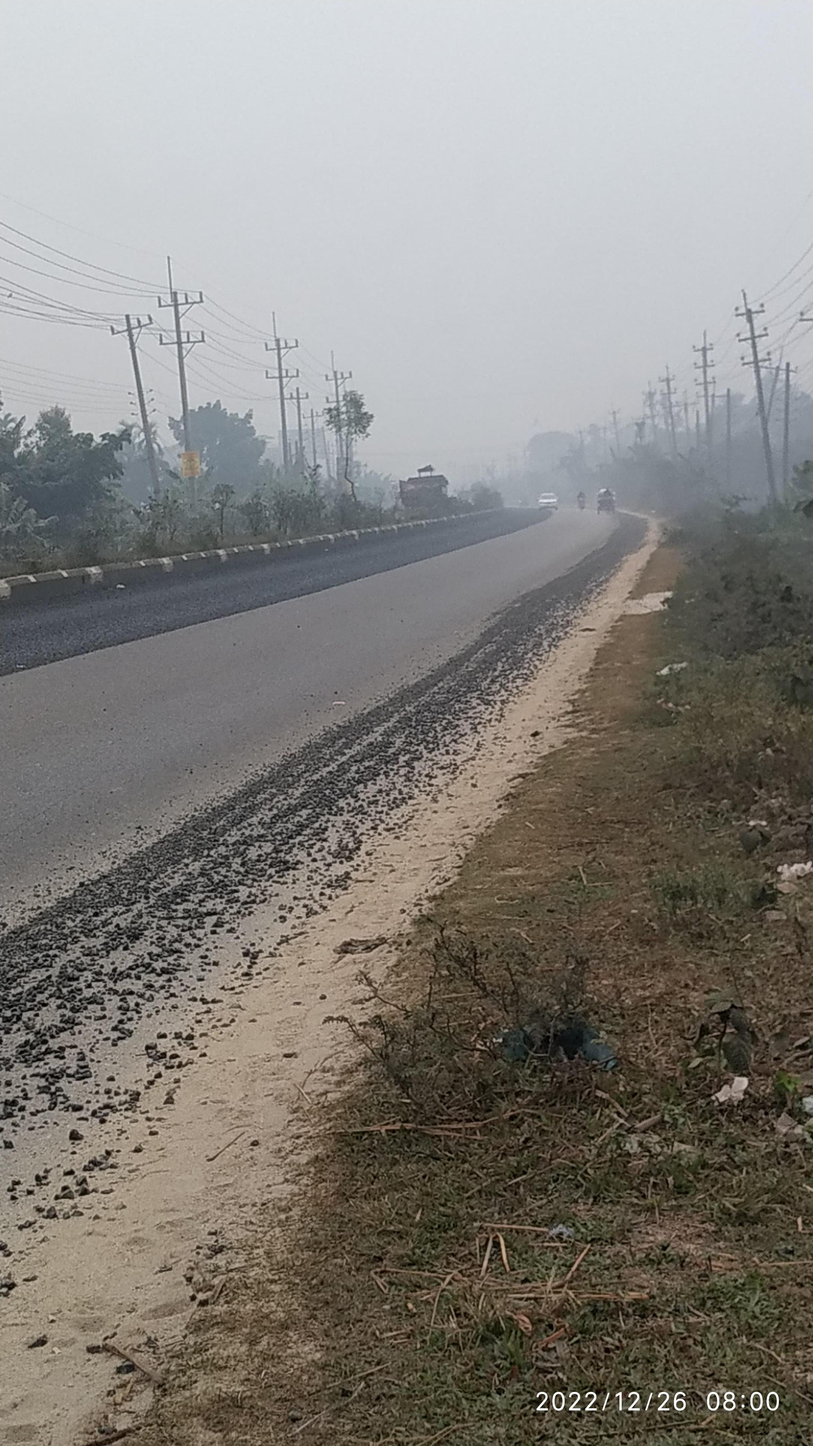Car: (528, 485, 569, 527)
Truck: (387, 455, 465, 522)
